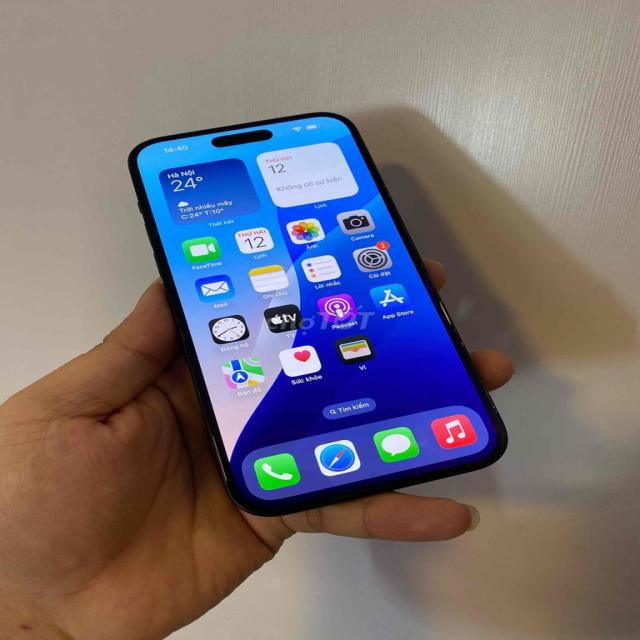gen_15: (125, 109, 516, 517)
